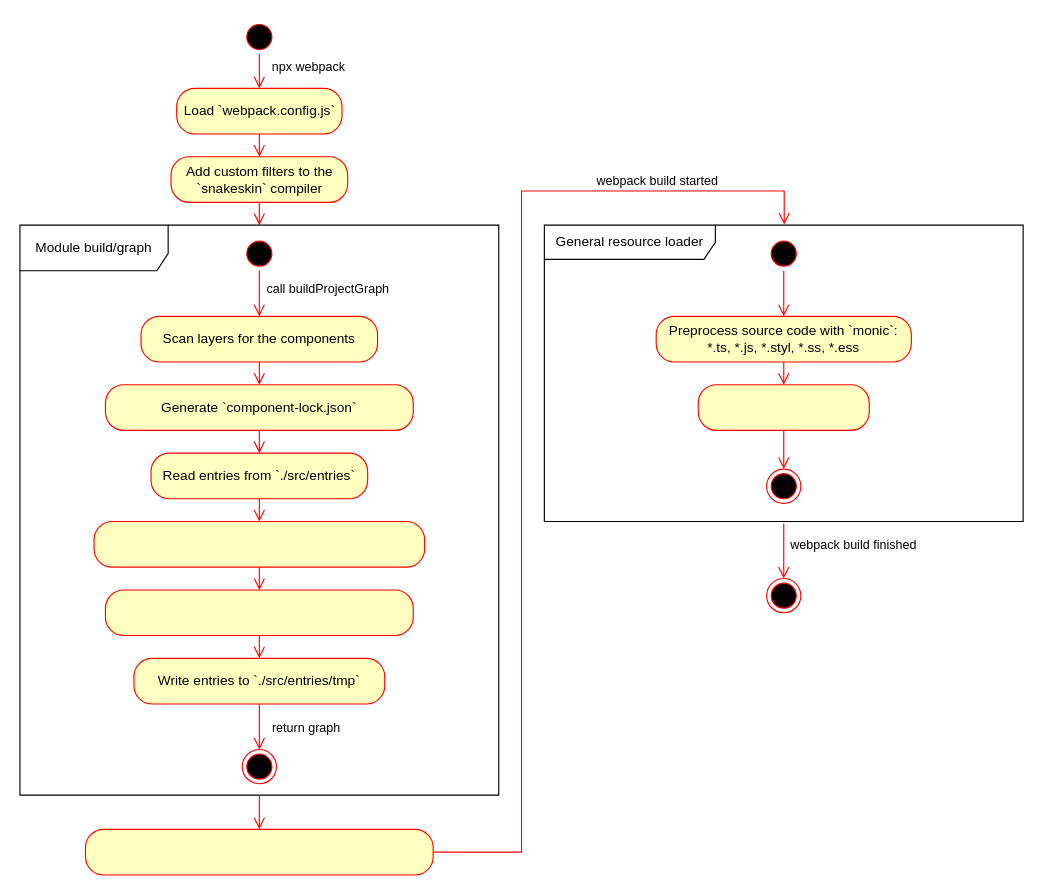
Some shapes in this 1043 by 895 pixel diagram are drawn without their labels. Here are the shapes that lost their labels. From the top down, the box of each, then its label:
(697, 384, 869, 430): Apply specific loaders
(93, 520, 425, 567): Build graph using `entries` and `components`
(104, 589, 413, 636): Transform graph entries using `entryReducer`
(84, 828, 433, 875): Generate webpack configs using graph `processes`
